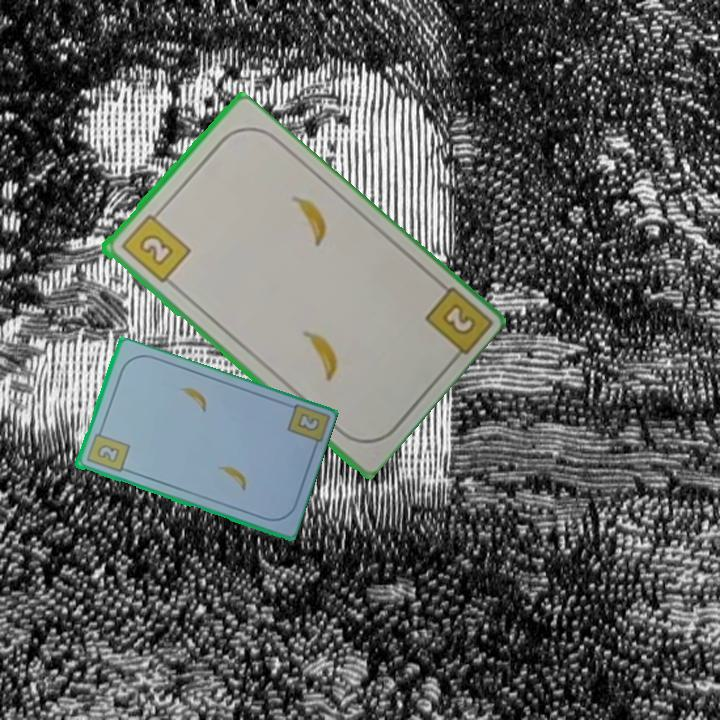2b: (117, 206, 193, 286), (83, 425, 132, 476), (437, 299, 479, 339), (293, 410, 322, 435)
